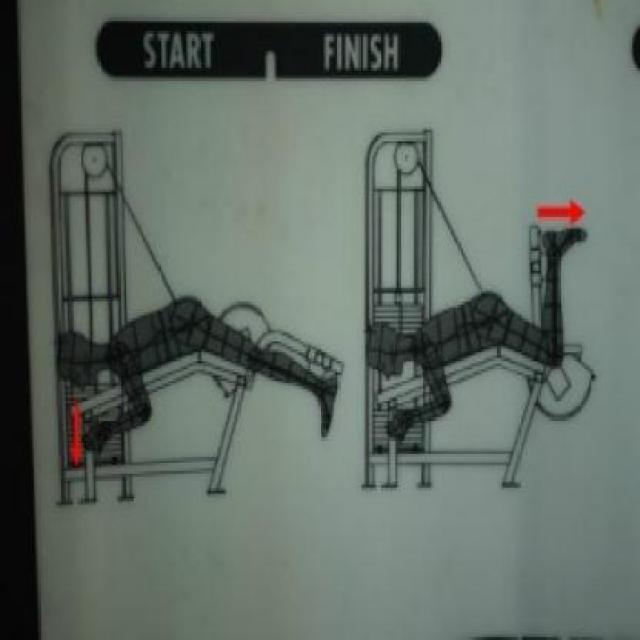reg curl machine: (45, 124, 346, 518), (356, 117, 604, 515)
